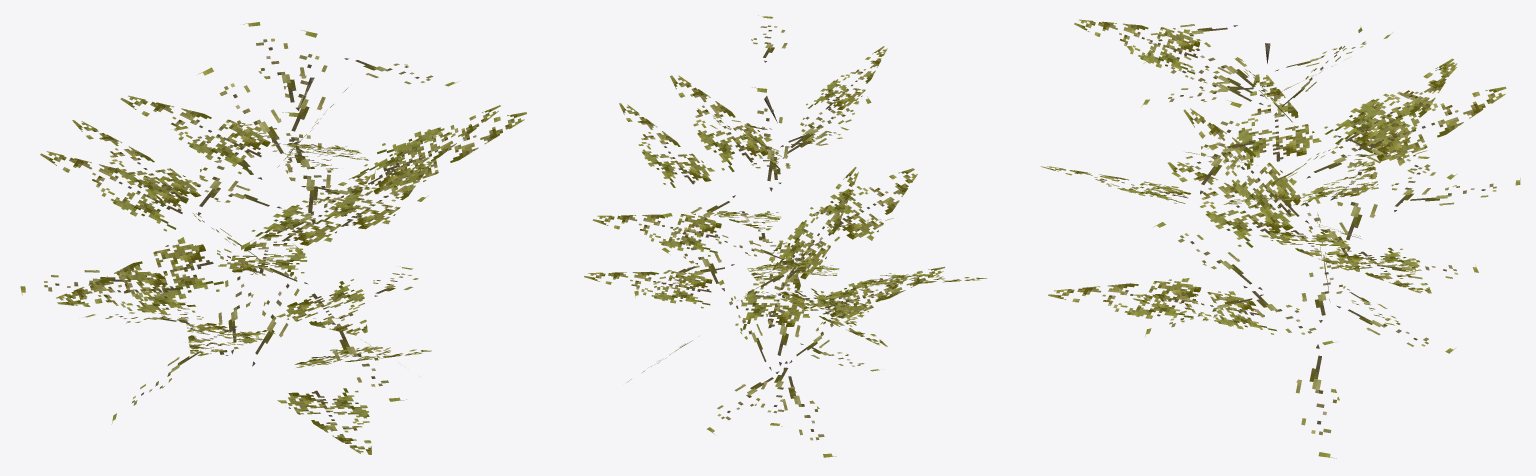
File: tree-oak.lod2.glb
The picture shows the model from 3 angles, left to right: view 1: azimuth 30°, elevation 25°; view 2: azimuth 150°, elevation 25°; view 3: azimuth 270°, elevation 25°; orthographic projection. The views are drawn at different scales.
Parts seen in each view (by area): view 1: leafplanes_10_3_leaf1_0; view 2: leafplanes_10_3_leaf1_0; view 3: leafplanes_10_3_leaf1_0.
Boxes of the visible parts, x1,y1,x2,y2 form: leafplanes_10_3_leaf1_0: (20, 22, 526, 454); leafplanes_10_3_leaf1_0: (584, 15, 987, 457); leafplanes_10_3_leaf1_0: (1041, 19, 1520, 458).
Size of the model in its own units: 10.59 by 8.15 by 9.65.
Materials: 2 (2 with a texture image).
